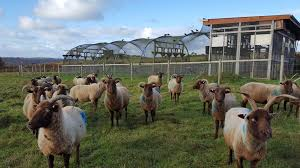sheep: (19, 101, 92, 168), (234, 70, 299, 122), (232, 111, 268, 167), (101, 77, 131, 133), (23, 72, 64, 108), (209, 84, 231, 137), (72, 78, 101, 112), (167, 68, 192, 106), (190, 75, 217, 109), (139, 83, 158, 125), (139, 66, 168, 90)
